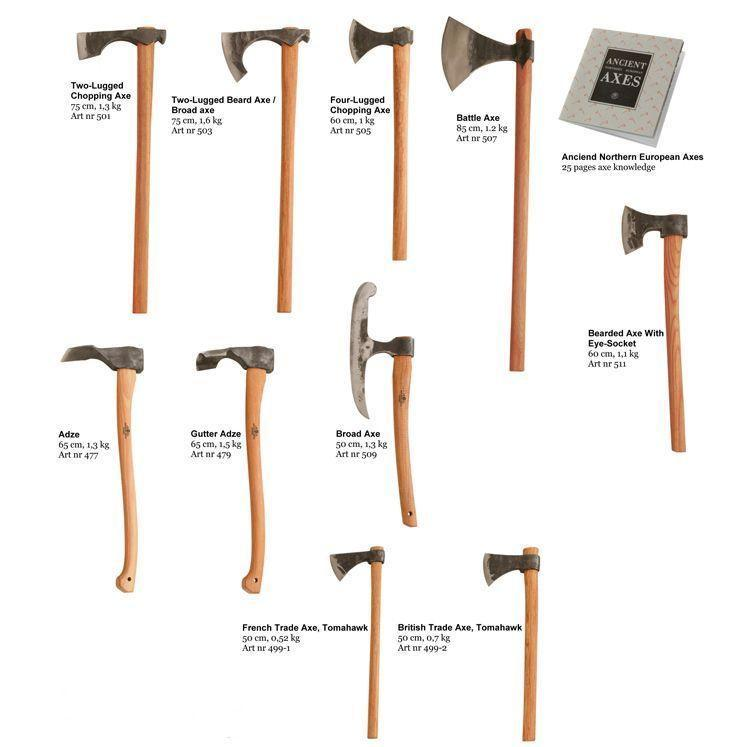machado: (441, 17, 533, 371), (77, 27, 165, 313), (222, 27, 309, 312), (61, 345, 143, 592), (196, 346, 273, 593), (622, 206, 687, 452), (349, 20, 412, 260), (483, 547, 538, 741), (330, 546, 384, 738)
